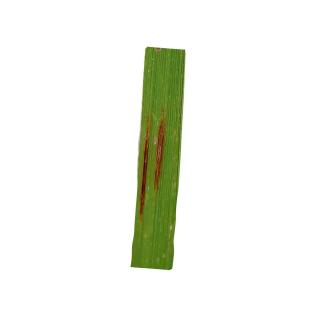Bercak-Cokelat-Sempit: (153, 109, 173, 197), (142, 114, 146, 218)
